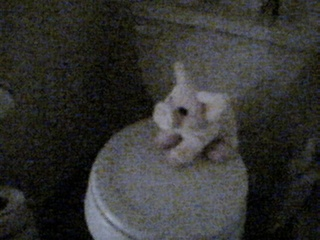piggy: (152, 61, 239, 169)
